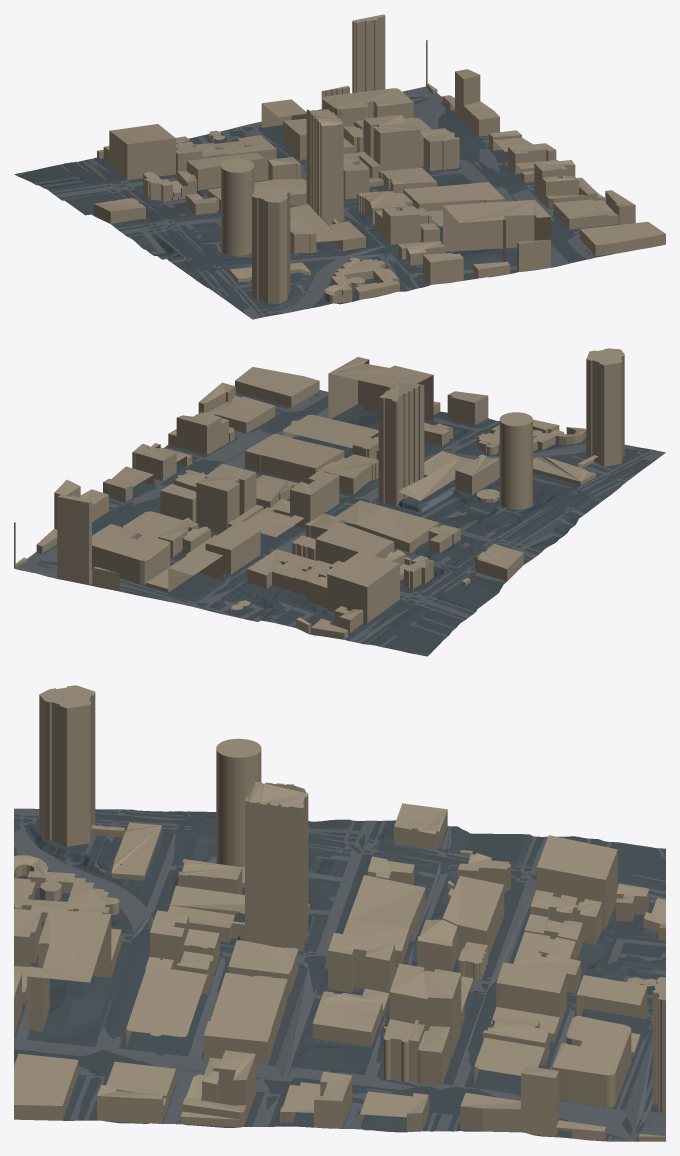
Rendered from epsg26910-1434-10890.lod0.glb.
3 views of the same model, one above another, from view 1: azimuth 30°, elevation 25°; view 2: azimuth 150°, elevation 25°; view 3: azimuth 270°, elevation 25° (orthographic). The views are drawn at different scales.
Visible parts, largest first — view 1: epsg26910-1434-10890-lod0; view 2: epsg26910-1434-10890-lod0; view 3: epsg26910-1434-10890-lod0.
Part boxes in pixels (x1,y1,x2,y2): epsg26910-1434-10890-lod0: (14,14,665,319); epsg26910-1434-10890-lod0: (14,348,665,656); epsg26910-1434-10890-lod0: (14,685,665,1141).
Bounding box in the file's own units: 384 × 128 × 384.
